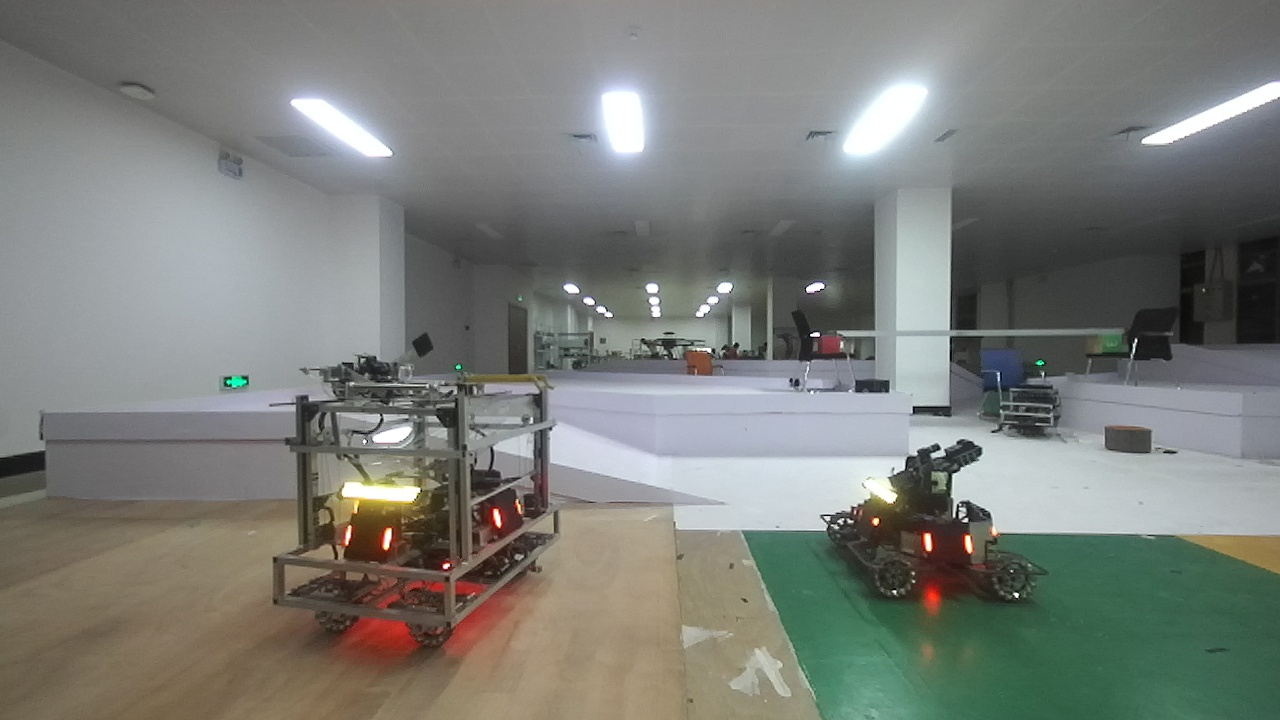car: (256, 347, 556, 647), (828, 433, 1013, 618)
